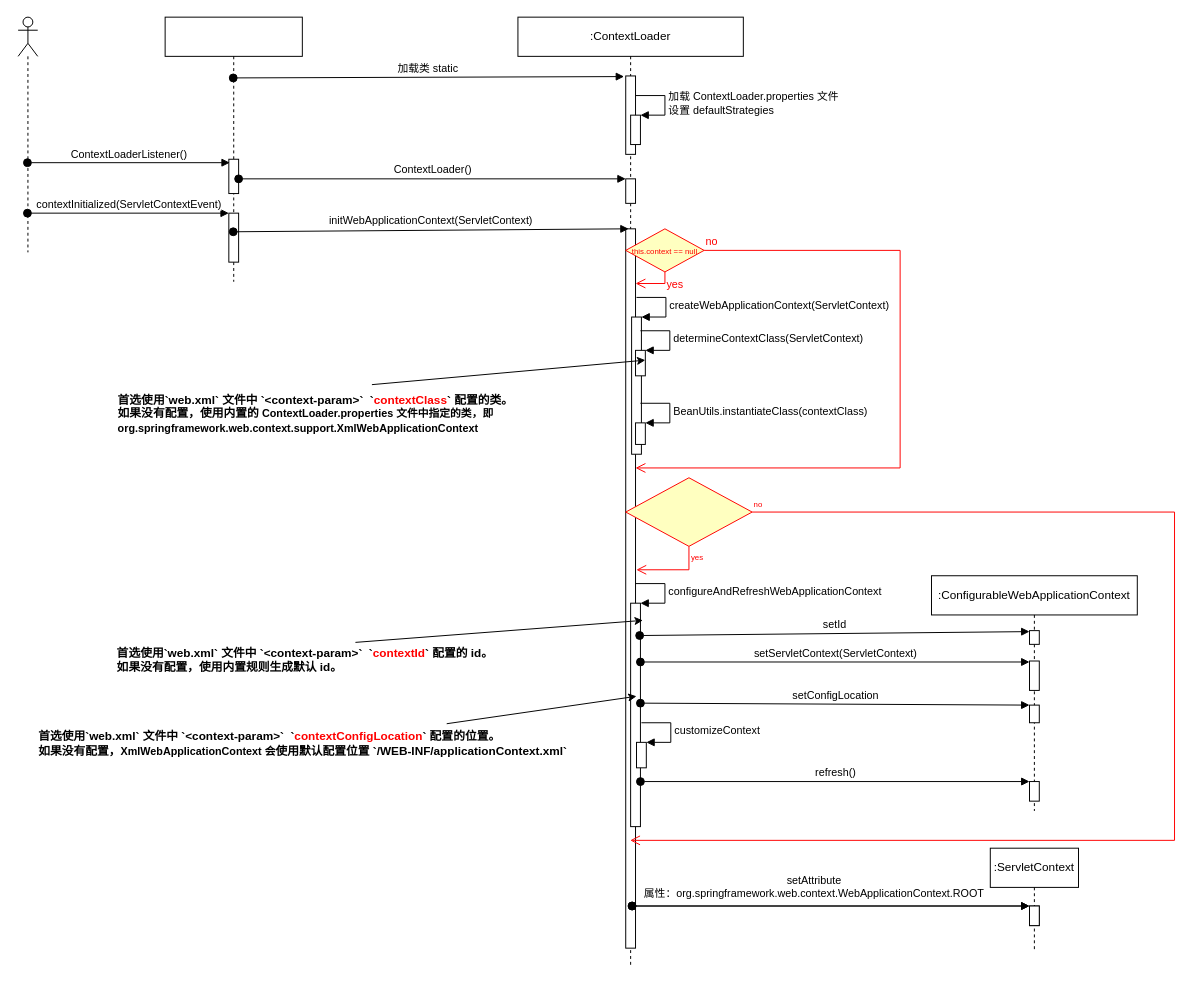
The diagram is 1201 pixels wide and 985 high, and some of its shapes have lost their labels. The shapes that lost their labels are listed below. From the top down, each one's centre as x and y in pixels, then its label:
At point 233,149: ":ContextLoaderListener".
At point 688,511: "this.context instanceof ConfigurableWebApplicationContext && !cwac.isActive()".
